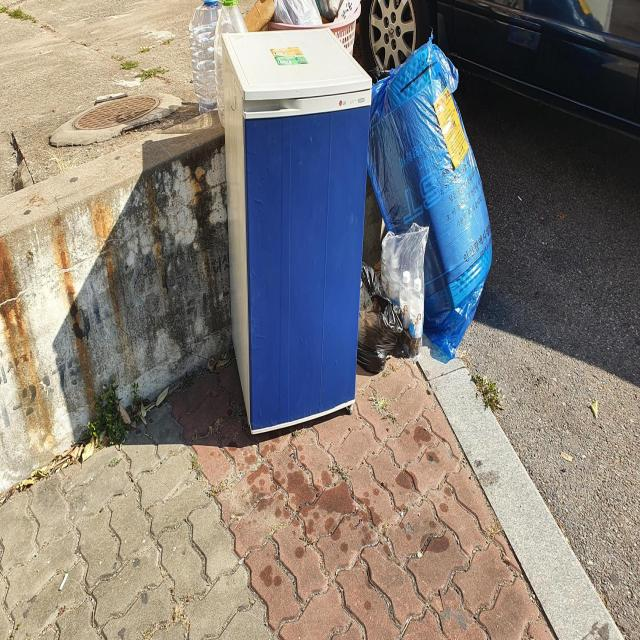refrigerator: (218, 25, 374, 438)
